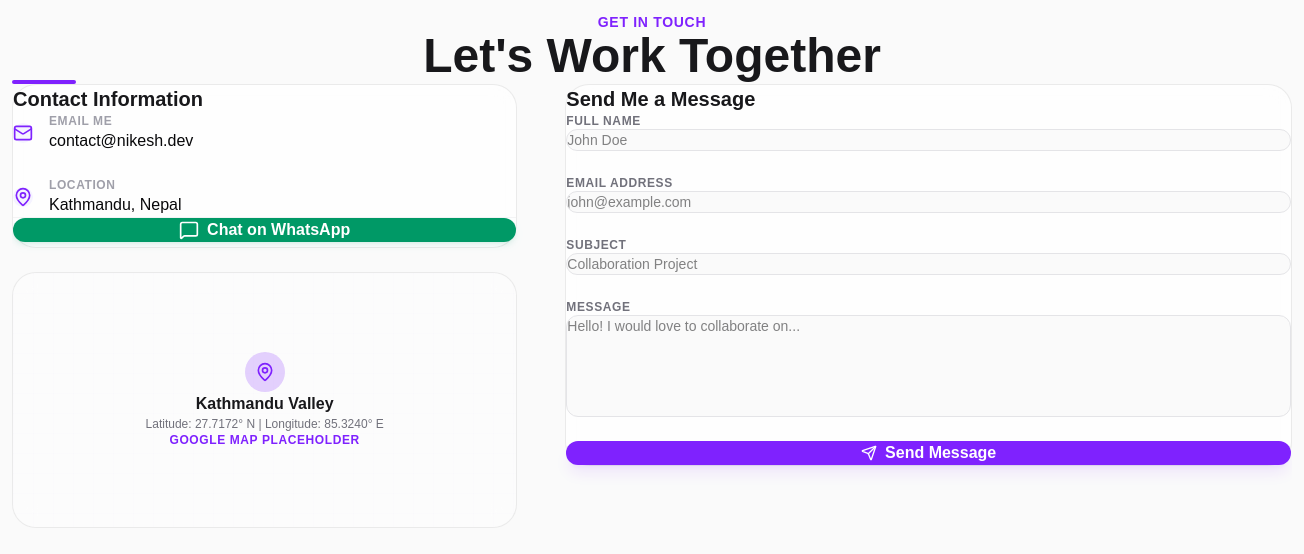
Contact Component Form Validation › displays error messages when submitting empty fields
What coordinates should you click on to do the following:
click the button "Send Message"
I would click on:
 (929, 453)
Its box is top-left (566, 441), bottom-right (1291, 465).
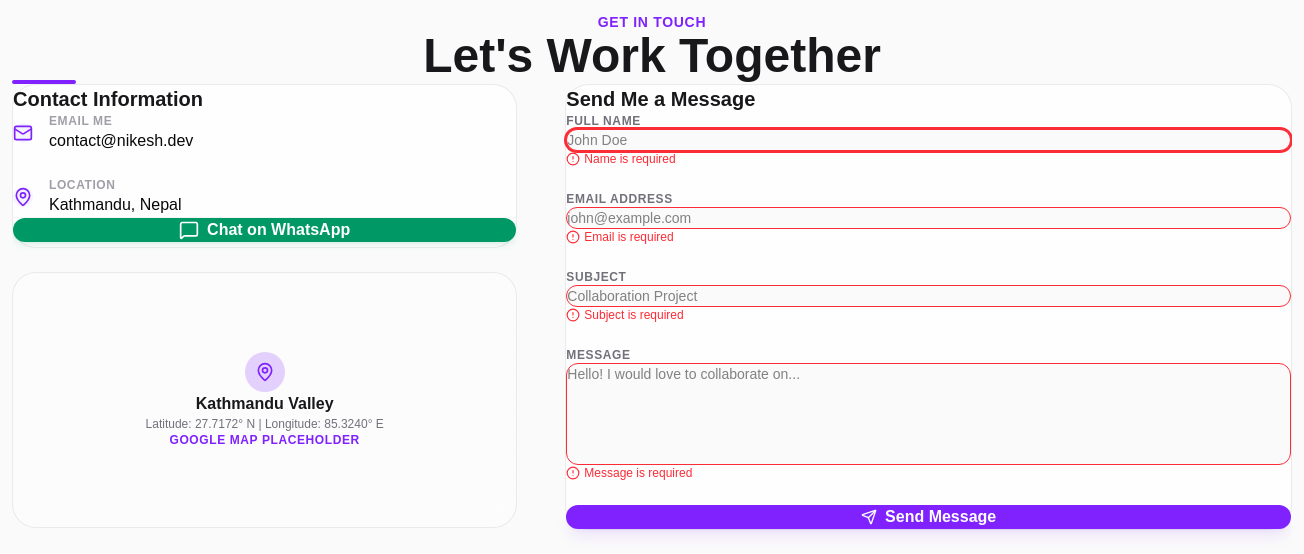
Result: the text "Name is required" is shown at top-left (566, 152), bottom-right (676, 166)
Result: the text "Email is required" is shown at top-left (566, 230), bottom-right (674, 244)
Result: the text "Subject is required" is shown at top-left (566, 308), bottom-right (684, 322)
